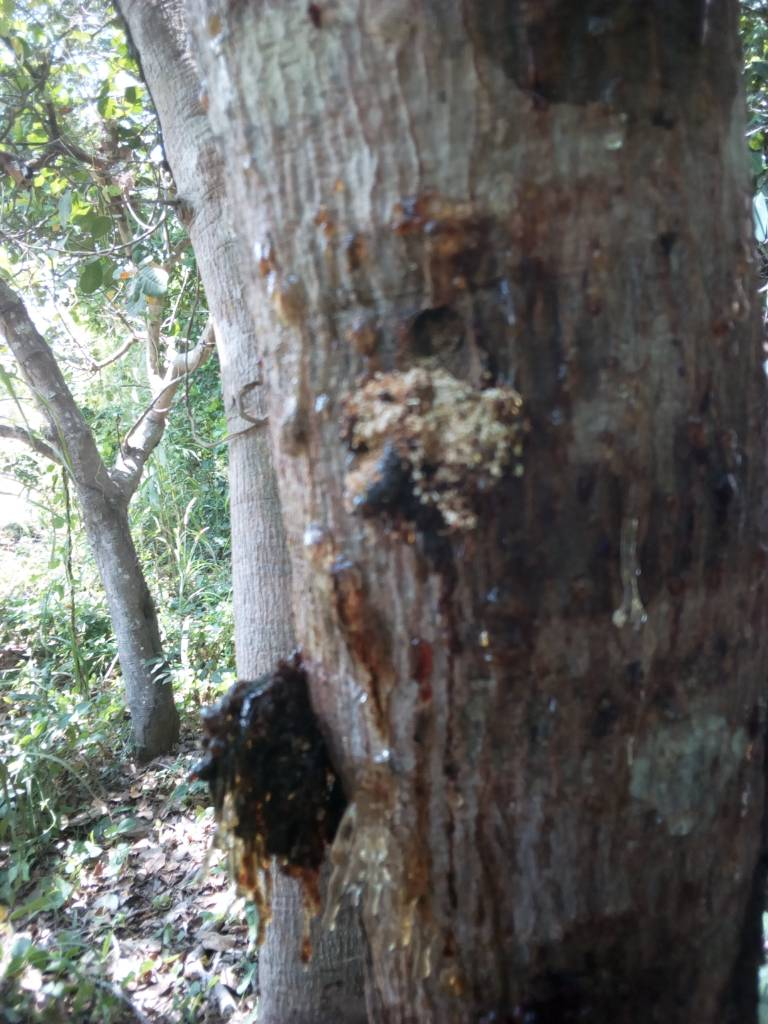Apate terebrans: (169, 638, 544, 922)
